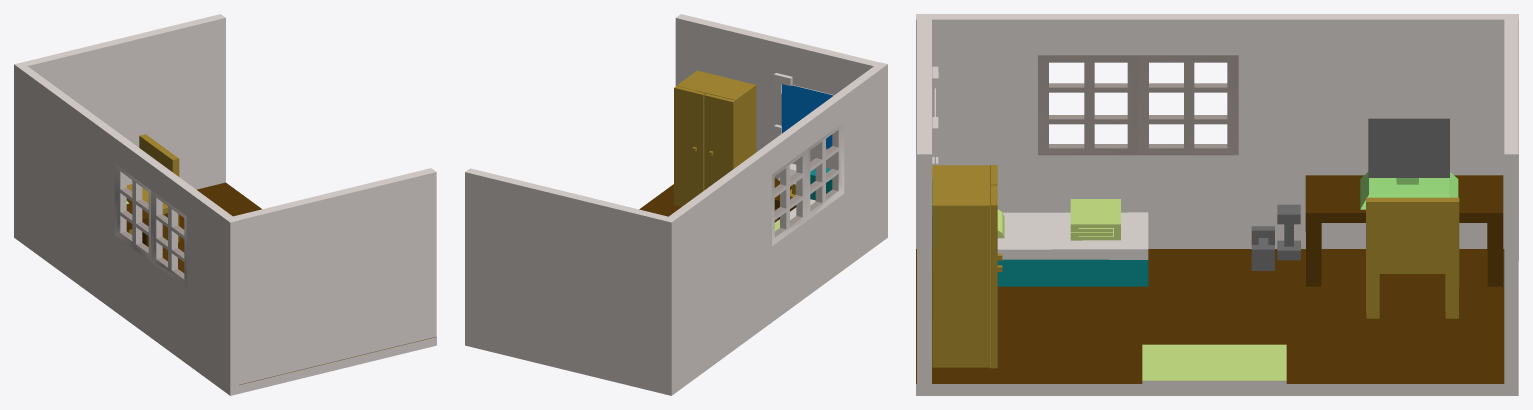
File: home no tex.fbx
The picture shows the model from 3 angles, left to right: view 1: azimuth 30°, elevation 25°; view 2: azimuth 150°, elevation 25°; view 3: azimuth 270°, elevation 25°; orthographic projection. The views are drawn at different scales.
Visible parts, largest first — view 1: polySurface65, polySurface66, polySurface64, polySurface67, polySurface21; view 2: polySurface65, polySurface64, polySurface66, pCube35, polySurface23, polySurface67; view 3: polySurface65, polySurface67, PCtable:polySurface19, pCube35, polySurface7, polySurface21, pCube48, polySurface66, polySurface64, polySurface10, polySurface68, pCube56.
Part boxes in pixels (bbox=[...]): polySurface65: bbox=[14, 62, 238, 395]; polySurface66: bbox=[232, 168, 436, 384]; polySurface64: bbox=[22, 14, 225, 189]; polySurface67: bbox=[162, 182, 436, 393]; polySurface21: bbox=[126, 134, 179, 242]; polySurface65: bbox=[663, 62, 887, 395]; polySurface64: bbox=[465, 168, 668, 393]; polySurface66: bbox=[675, 14, 879, 178]; pCube35: bbox=[674, 70, 756, 206]; polySurface23: bbox=[781, 84, 833, 148]; polySurface67: bbox=[639, 184, 778, 222]; polySurface65: bbox=[916, 14, 1518, 260]; polySurface67: bbox=[916, 249, 1514, 395]; PCtable:polySurface19: bbox=[1305, 118, 1503, 286]; pCube35: bbox=[932, 165, 1002, 368]; polySurface7: bbox=[932, 179, 1148, 286]; polySurface21: bbox=[1366, 197, 1459, 318]; pCube48: bbox=[1142, 344, 1286, 383]; polySurface66: bbox=[917, 19, 931, 395]; polySurface64: bbox=[1504, 19, 1518, 395]; polySurface10: bbox=[1070, 199, 1120, 240]; polySurface68: bbox=[1277, 204, 1300, 260]; pCube56: bbox=[1251, 226, 1274, 270].
Bounding box in the file's own units: 13.36 × 10.71 × 24.23.
